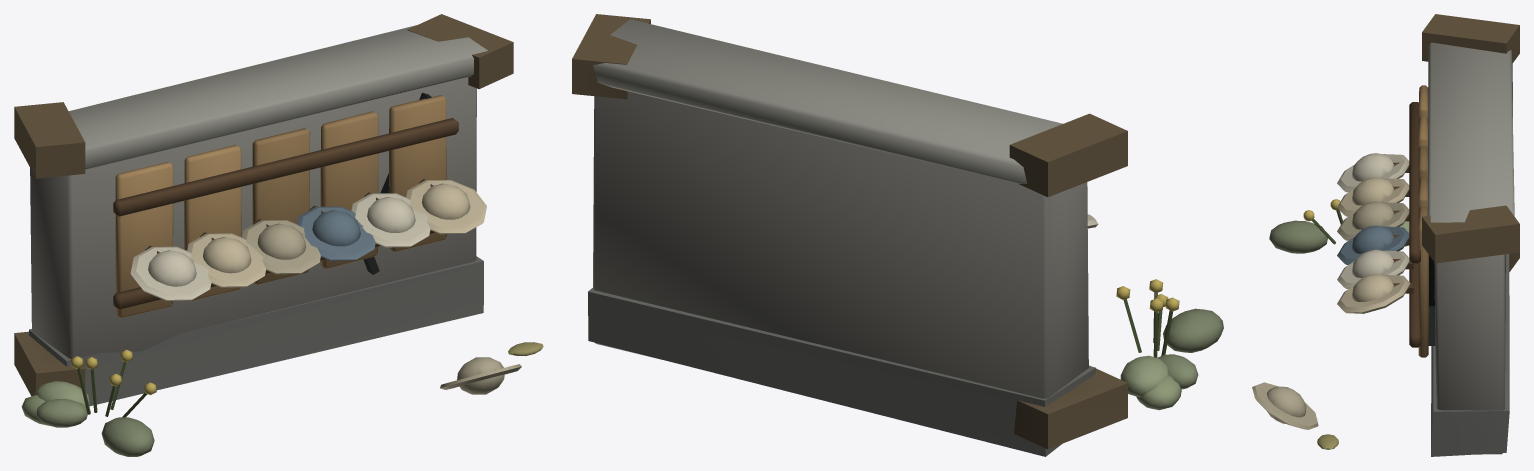
Rendered from hardhat_rack_a.glb.
3 views of the same model, side by side, from view 1: azimuth 30°, elevation 25°; view 2: azimuth 150°, elevation 25°; view 3: azimuth 270°, elevation 25° (orthographic). The views are drawn at different scales.
Visible parts, largest first — view 1: Surface; view 2: Surface; view 3: Surface.
Part boxes in pixels (x1,y1,x2,y2): Surface: [14, 14, 543, 456]; Surface: [572, 14, 1223, 456]; Surface: [1252, 14, 1519, 456].
Size of the model in its own units: 5 by 2.61 by 2.53.
